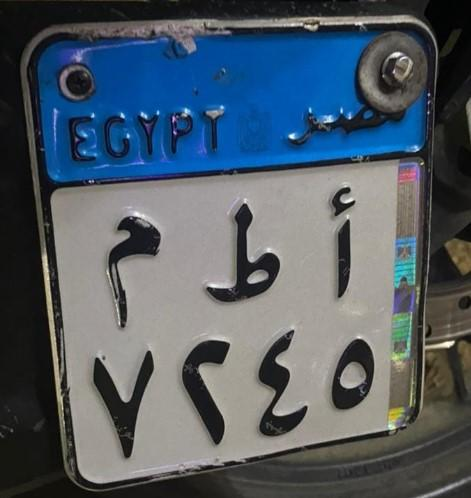License Plate: (10, 44, 426, 475)
